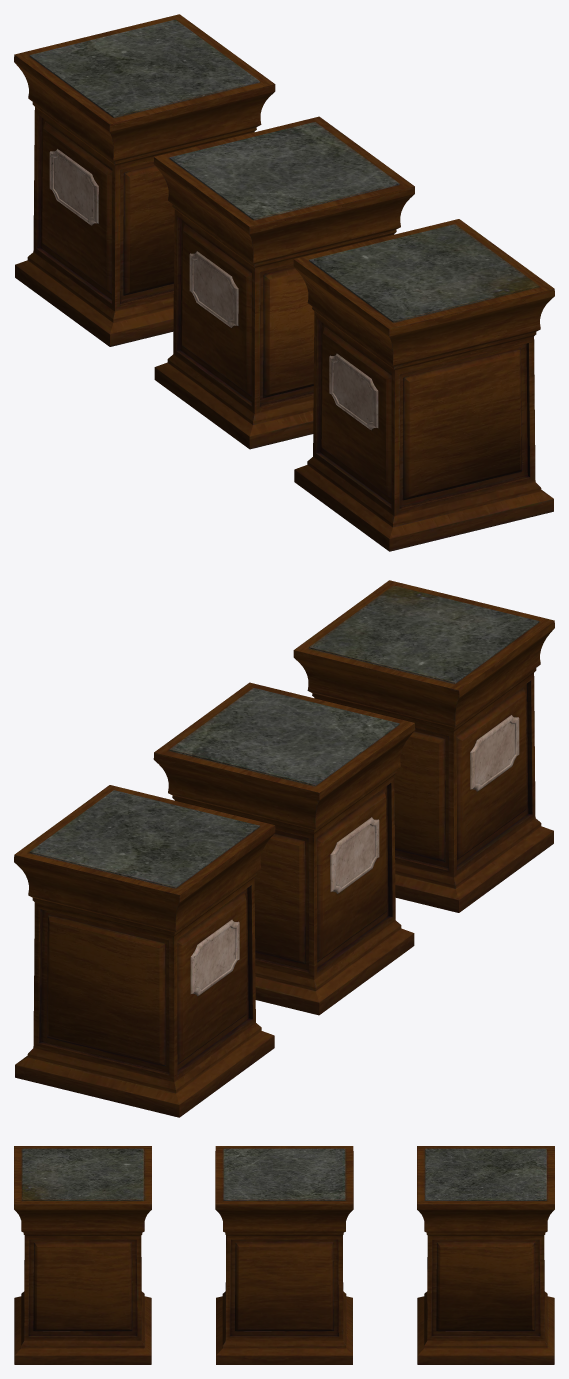
The model's file is socles.glb.
3 views of the same model, one above another, from view 1: azimuth 30°, elevation 25°; view 2: azimuth 150°, elevation 25°; view 3: azimuth 270°, elevation 25° (orthographic). The views are drawn at different scales.
Parts seen in each view (by area): view 1: Object_12, Object_8, Object_4; view 2: Object_4, Object_8, Object_12; view 3: Object_4, Object_12, Object_8.
Boxes of the visible parts, box(x1,y1,x2,y2) form: Object_12: box(293, 219, 554, 551); Object_8: box(153, 116, 414, 449); Object_4: box(14, 14, 275, 346); Object_4: box(14, 785, 275, 1117); Object_8: box(153, 682, 415, 1015); Object_12: box(293, 580, 554, 912); Object_4: box(417, 1146, 554, 1364); Object_12: box(14, 1146, 151, 1364); Object_8: box(215, 1146, 353, 1364).
Size of the model in its own units: 1.45 by 1.87 by 5.67.
Materials: 3 (3 with a texture image).
